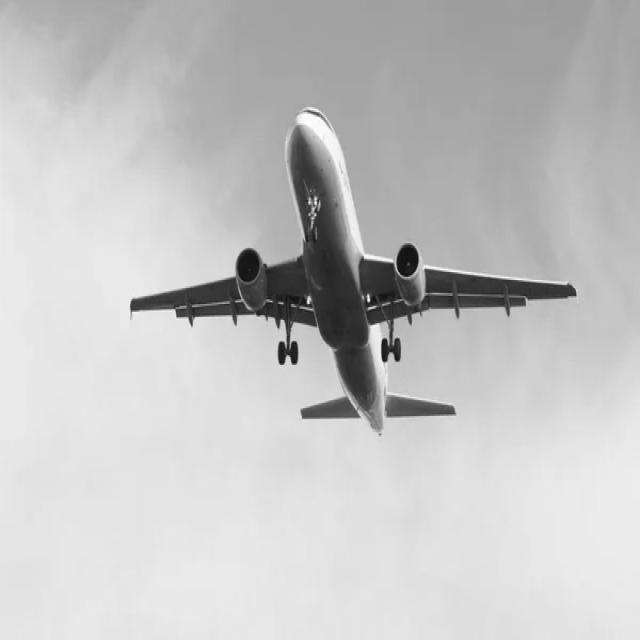Aircraft: (126, 90, 576, 443)
